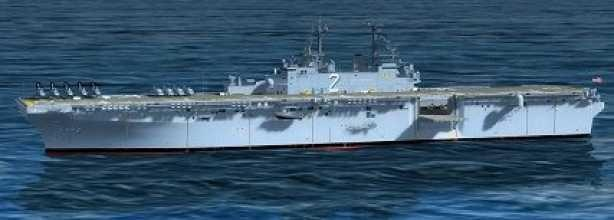warship: (4, 27, 606, 154)
